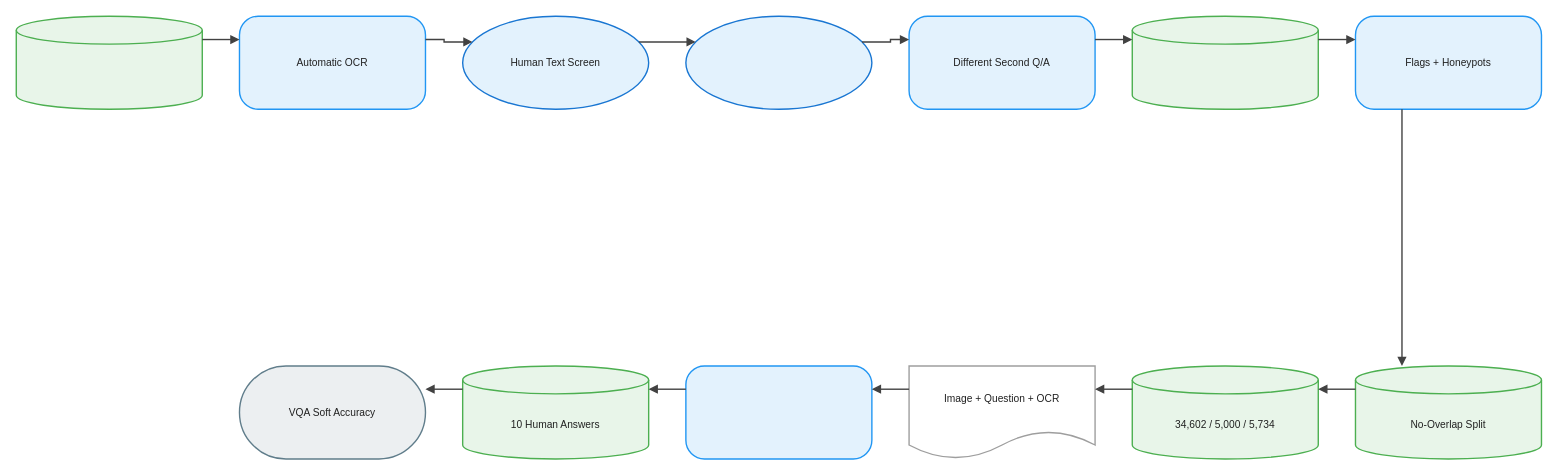
Image size: 1559x476. Some labels were removed from this diagram. The shapes that lost their labels are listed below. From the top down, each one's centre as x and y in pixels, then its label:
At [109,62]: "Open Images".
At [778,62]: "Write Text-Required Qs".
At [1225,62]: "10 Answers per Question".
At [778,412]: "Predict Answer".
